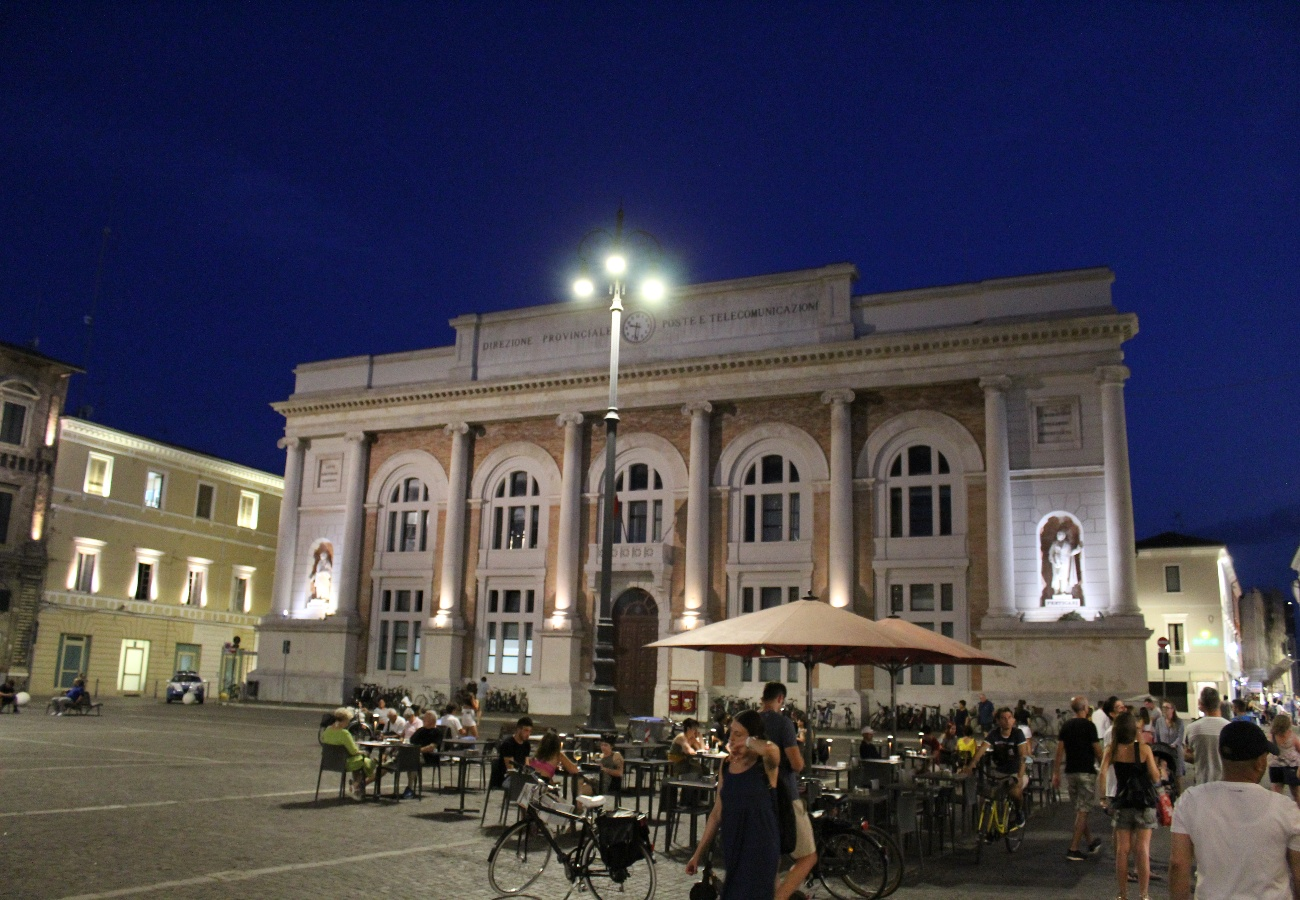Palazzo delle Poste: (249, 242, 1137, 708)
